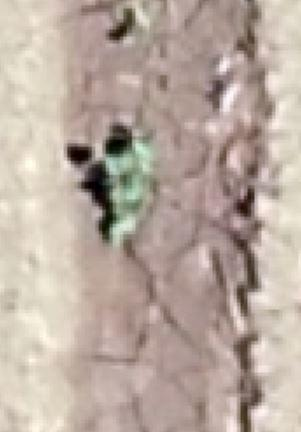cotton: (110, 212, 138, 243), (112, 183, 146, 206), (107, 158, 146, 177), (132, 5, 154, 34), (130, 138, 151, 156)
